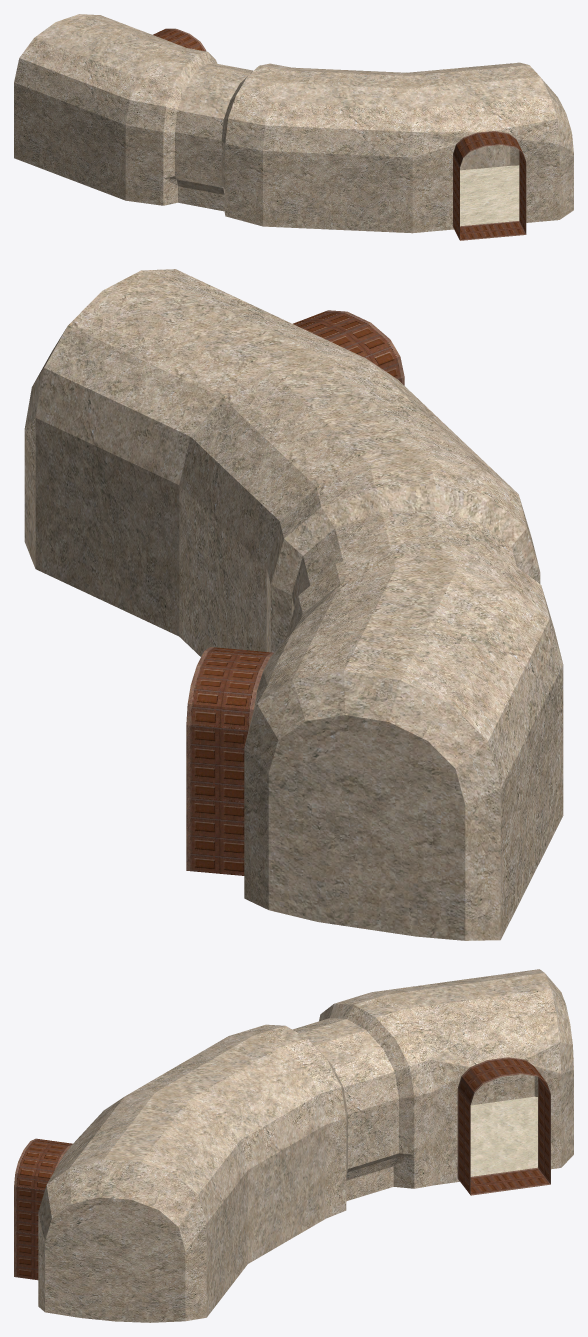
Rendered from thm_tato_watto_junkshop_r1_mesh_r1.fbx.
The picture shows the model from 3 angles, top to bottom: view 1: azimuth 30°, elevation 25°; view 2: azimuth 150°, elevation 25°; view 3: azimuth 270°, elevation 25°; orthographic projection. The views are drawn at different scales.
Visible parts, largest first — view 1: mesh_node; view 2: mesh_node; view 3: mesh_node.
Boxes of the visible parts, <box> form: mesh_node: <box>14,14,573,240</box>; mesh_node: <box>24,269,563,940</box>; mesh_node: <box>14,969,573,1322</box>.
Bounding box in the file's own units: 12.89 × 3.96 × 13.29.
